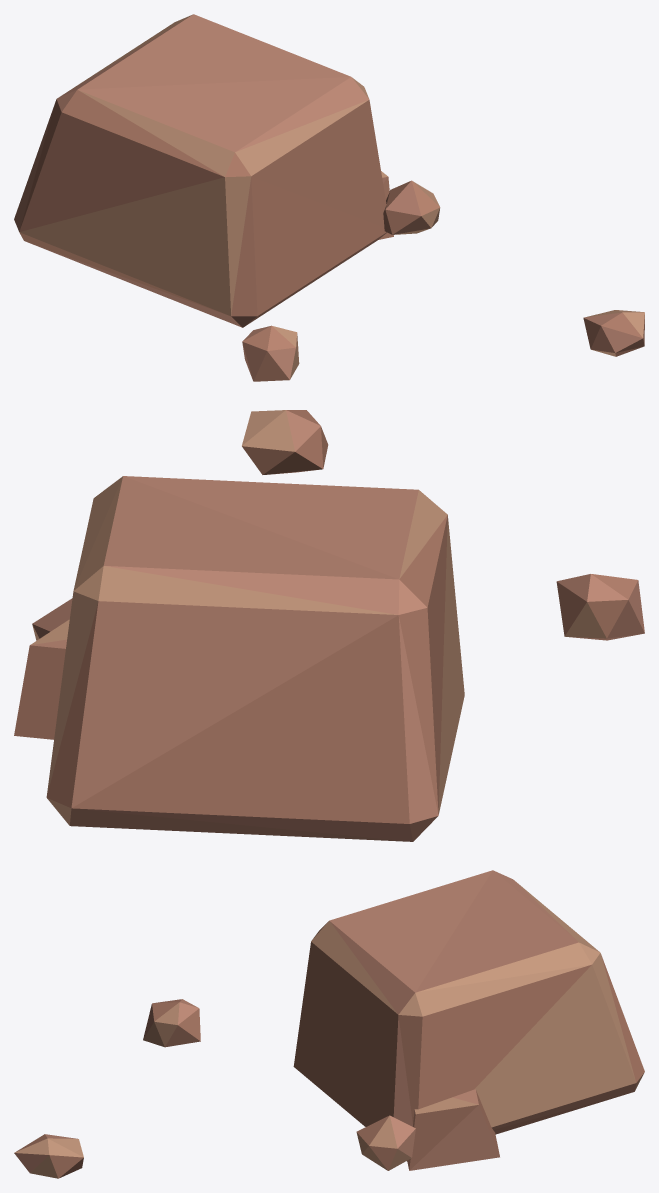
File: laterite-chunk-00.glb
3 views of the same model, one above another, from view 1: azimuth 30°, elevation 25°; view 2: azimuth 150°, elevation 25°; view 3: azimuth 270°, elevation 25° (orthographic). The views are drawn at different scales.
Parts seen in each view (by area): view 1: laterite_chunk_00; view 2: laterite_chunk_00; view 3: laterite_chunk_00.
Boxes of the visible parts, x1,y1,x2,y2 form: laterite_chunk_00: (14, 14, 644, 381); laterite_chunk_00: (14, 410, 644, 841); laterite_chunk_00: (14, 870, 644, 1178).
Bounding box in the file's own units: 0.4658 × 0.2202 × 0.7044.
